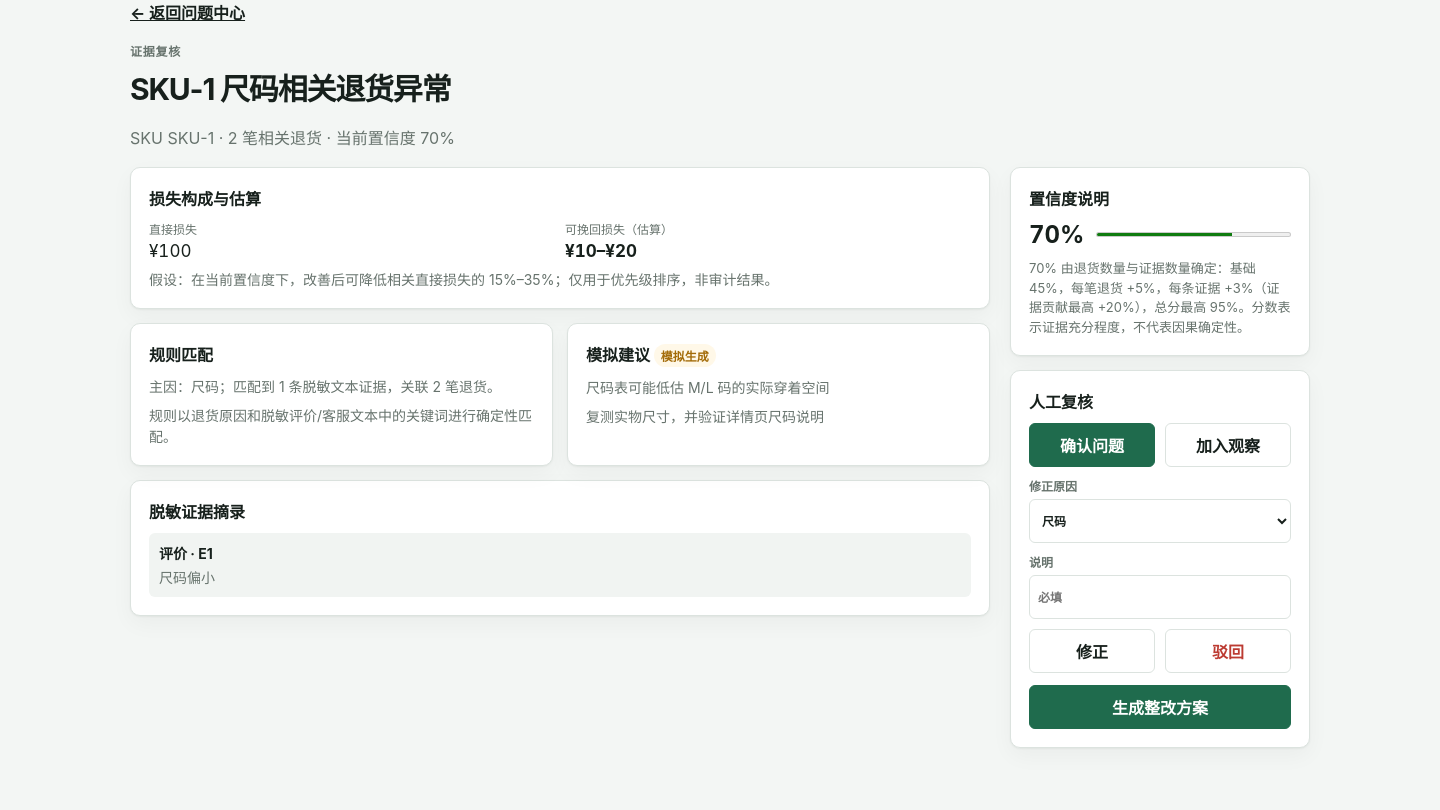
it: publishes a complete manual edit to the action board
The image size is (1440, 810).
Click the button "生成整改方案". click: (1160, 707)
box: [1029,685,1291,729]
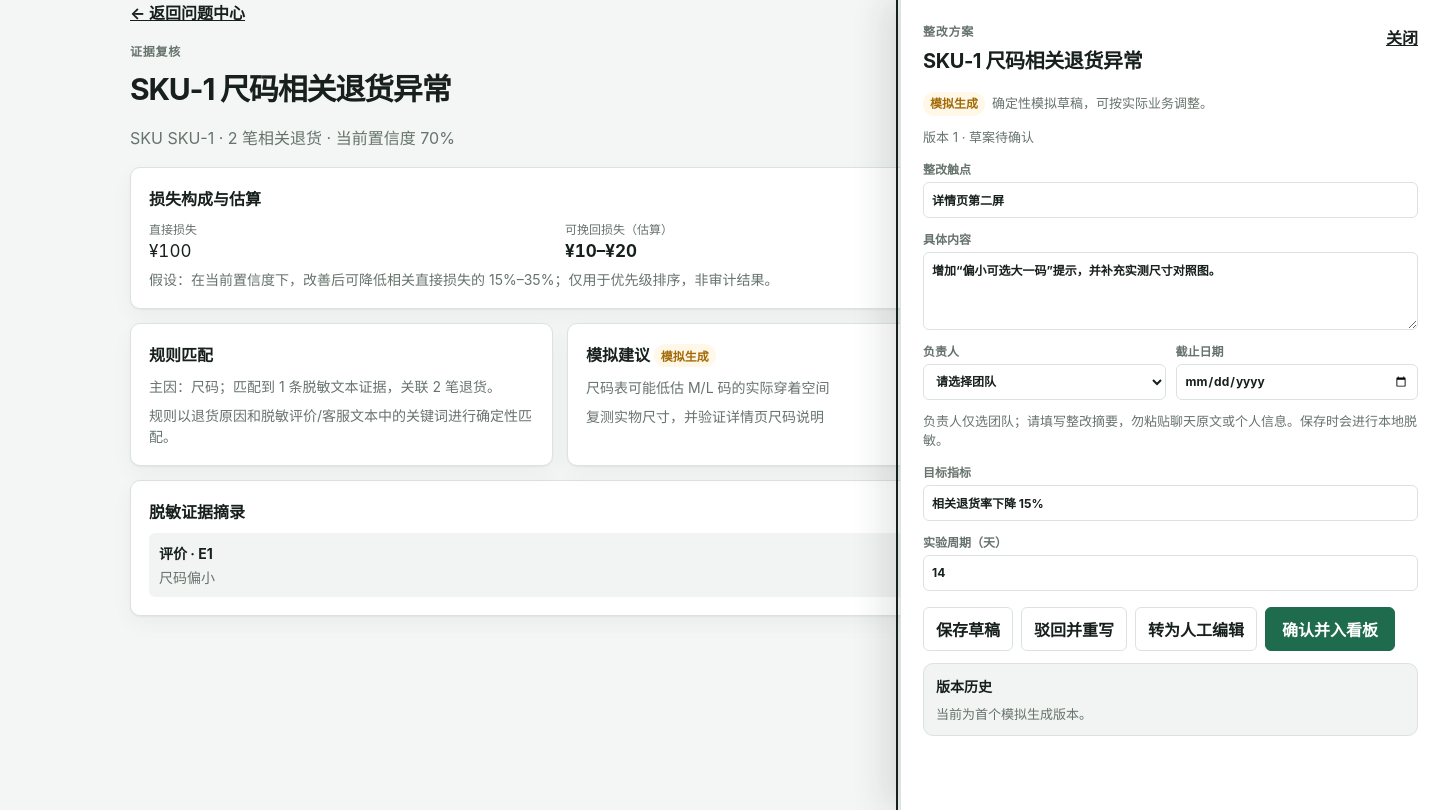
Now the field labelled "整改触点" is shown, box [923,182,1418,218]
Select "商品运营" in the dropdown labelled "负责人". click: (1044, 382)
box: [923,364,1166,400]
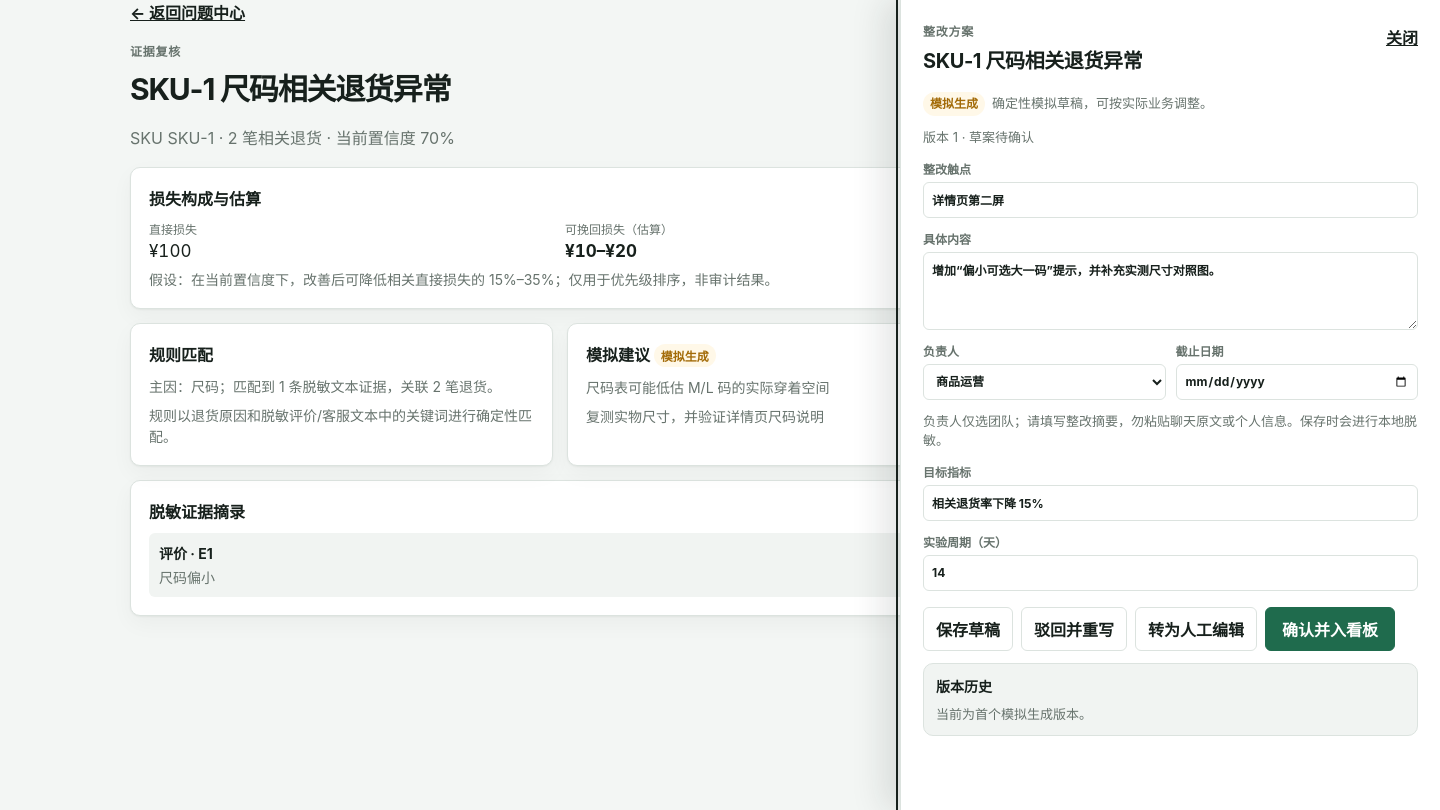
Type "2026-09-30" into the date field labelled "截止日期". click: (1297, 382)
box: [1176,364,1418,400]
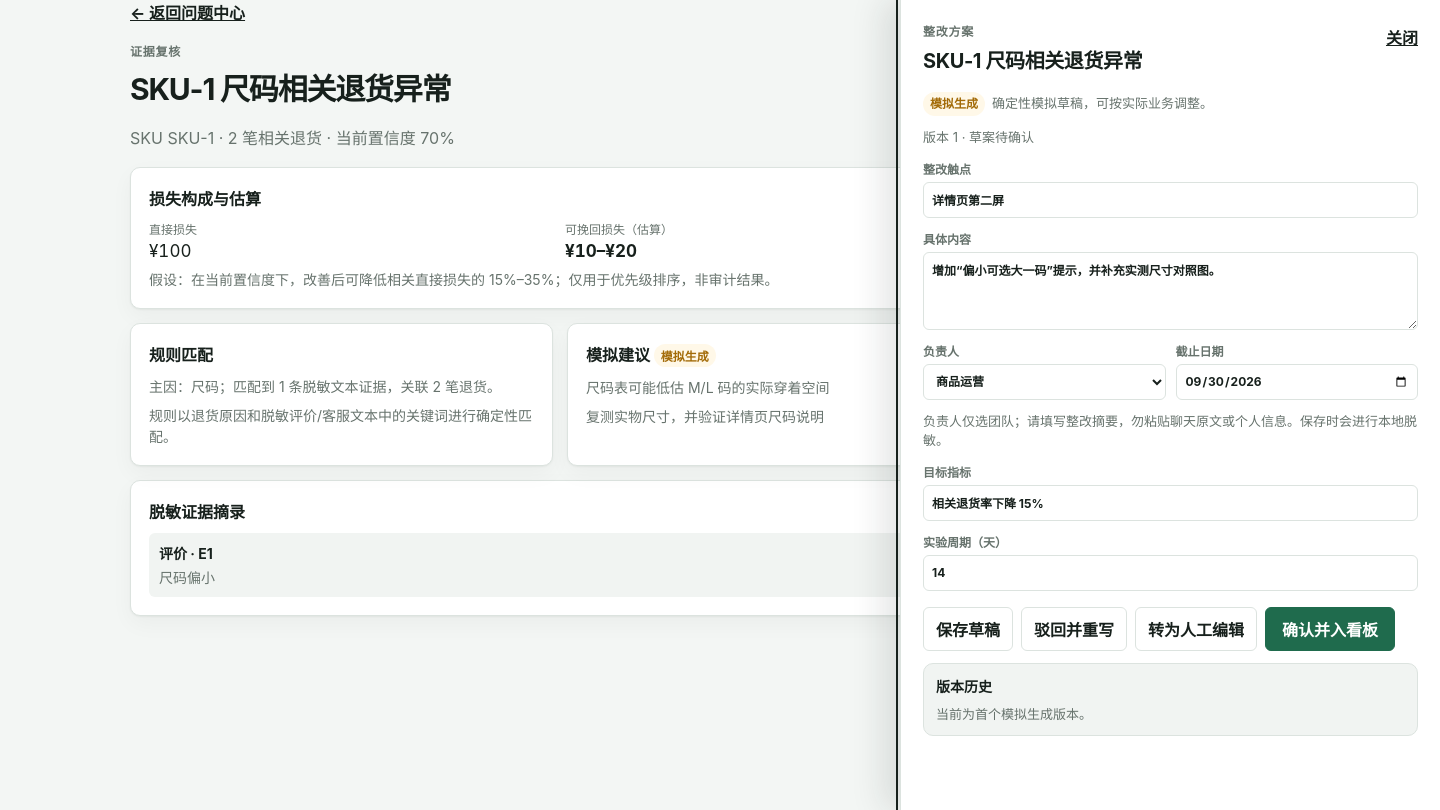
Replace the text in the field labelled "目标指标" with " 退货率下降 15% ". click: (1170, 502)
box: [923,484,1418,520]
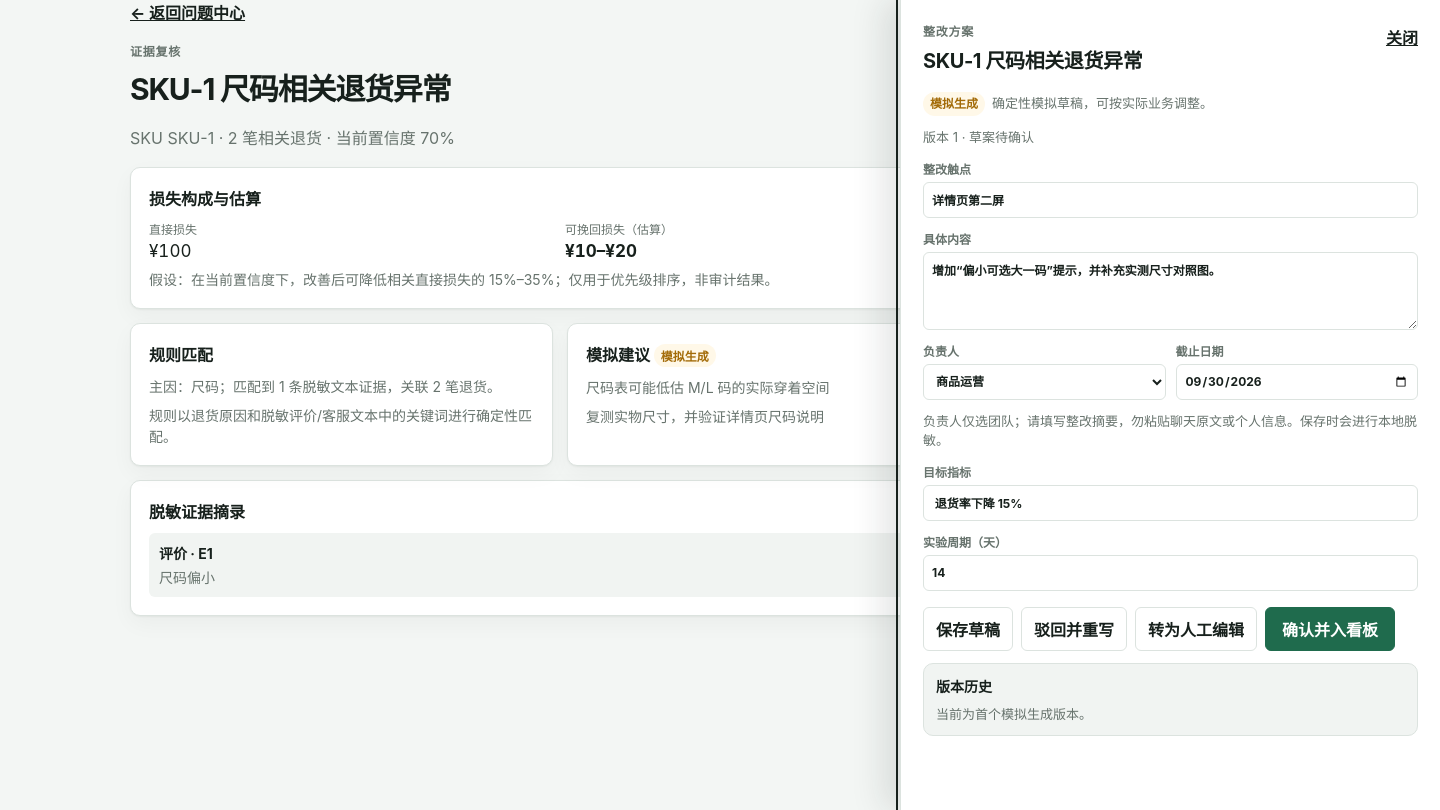
Click the button "转为人工编辑". click: (1196, 628)
box: [1135,606,1257,650]
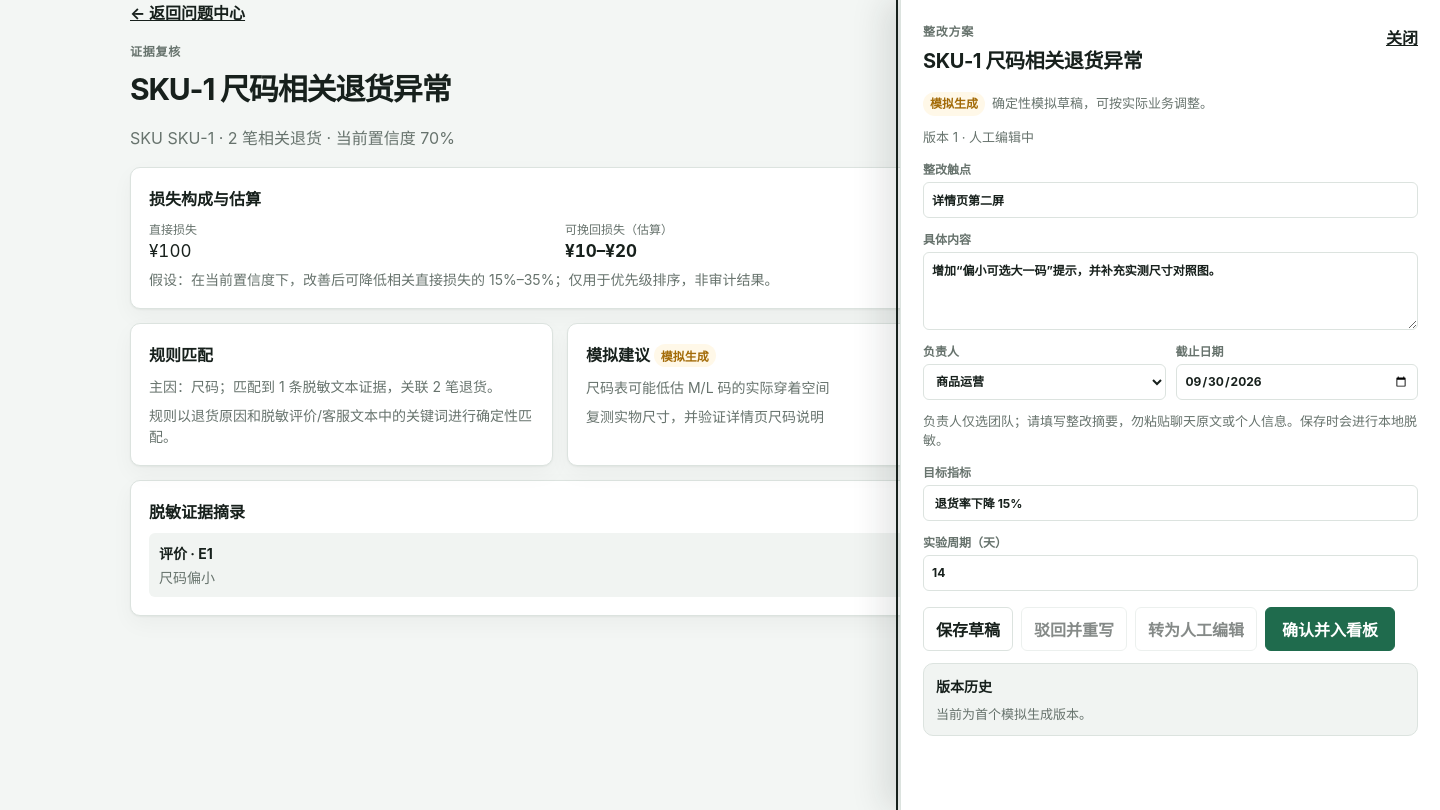
Click the button "确认并入看板". click: (1330, 628)
box: [1265,606,1395,650]
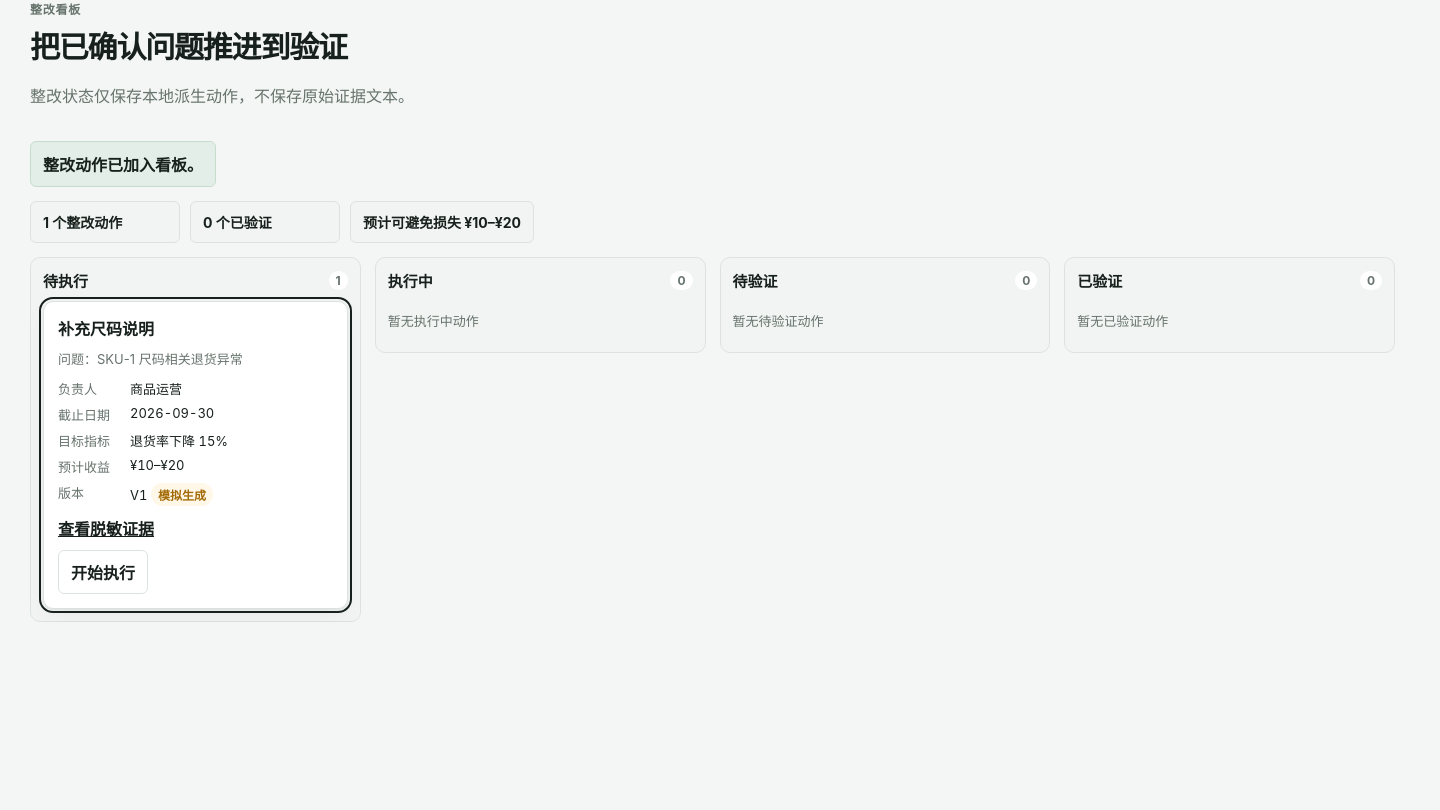
Now the heading "把已确认问题推进到验证" is shown, box [30,29,347,65]
Now the text "商品运营" is shown, box [130,381,182,397]
